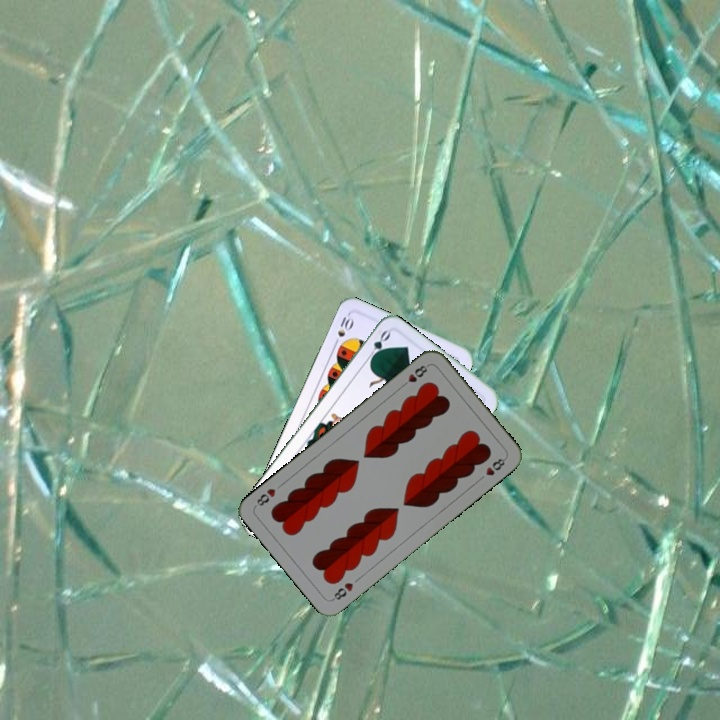GO: (363, 326, 393, 365)
H8: (397, 360, 431, 390), (328, 578, 356, 603)
S10: (330, 312, 356, 349)
